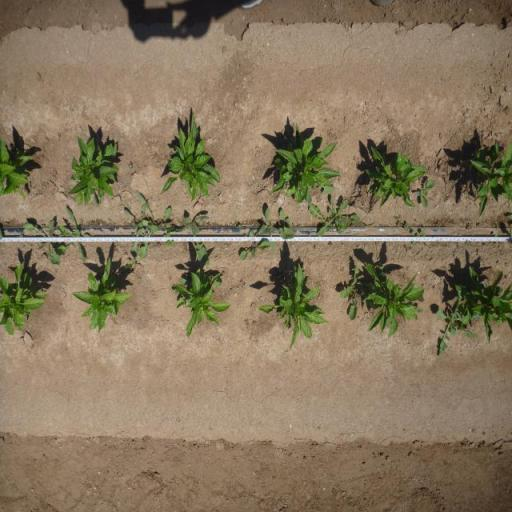plant: (258, 263, 328, 349), (160, 112, 222, 201), (170, 264, 230, 338), (272, 126, 337, 194), (72, 258, 131, 332), (364, 270, 426, 338), (0, 260, 46, 337), (461, 270, 512, 338), (363, 146, 419, 206), (70, 140, 120, 206), (469, 139, 512, 214), (0, 133, 35, 202), (378, 262, 392, 278)
weed: (135, 190, 173, 256), (309, 195, 361, 236), (434, 305, 471, 357), (121, 205, 157, 258), (175, 216, 211, 266), (58, 207, 90, 262), (23, 219, 60, 265), (340, 262, 368, 320), (265, 208, 294, 250), (237, 230, 272, 262), (416, 179, 438, 209), (278, 210, 292, 228), (412, 230, 426, 246), (163, 232, 175, 248), (124, 258, 138, 269), (489, 234, 500, 246), (394, 214, 402, 227), (90, 218, 101, 227), (292, 222, 301, 232), (78, 216, 84, 230), (464, 240, 472, 247), (466, 223, 472, 231), (435, 220, 441, 228), (404, 223, 410, 231), (236, 224, 243, 230), (109, 218, 115, 225), (454, 242, 460, 248), (252, 220, 258, 226), (128, 161, 132, 169), (364, 224, 374, 227), (420, 295, 425, 301), (18, 234, 24, 238), (157, 243, 161, 248), (242, 282, 245, 288)
